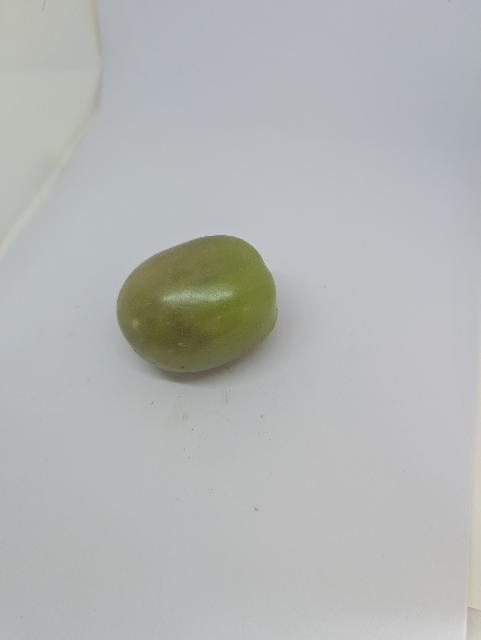green: (98, 224, 296, 408)
